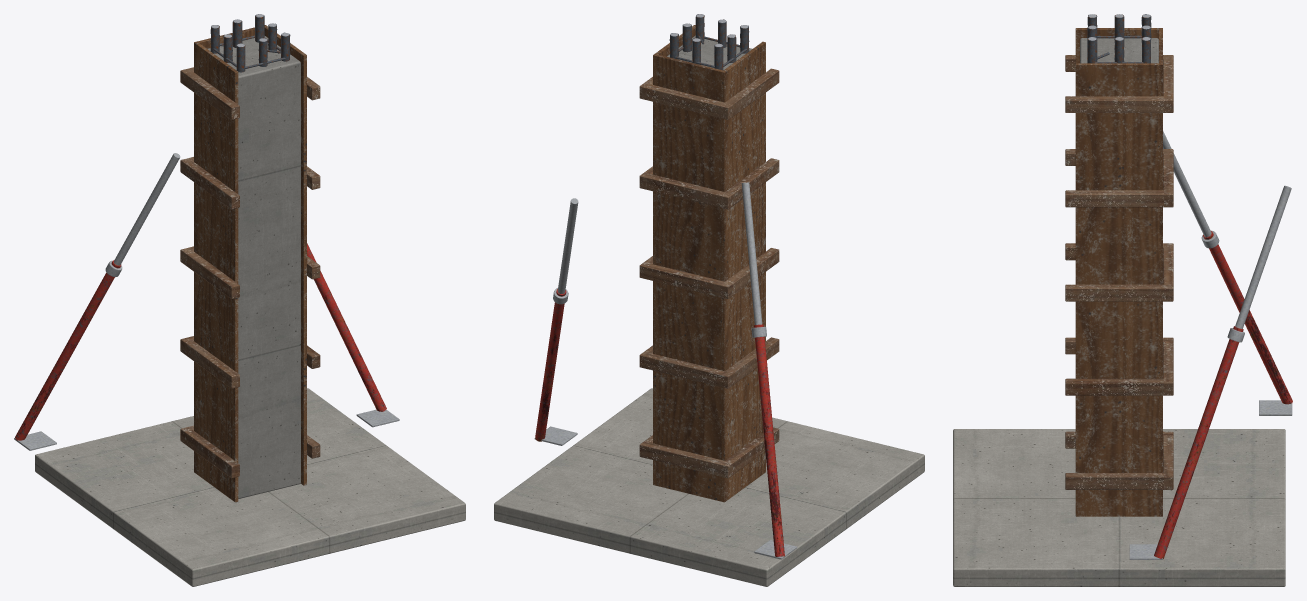
Rendered from chi-tiet-cot.glb.
The picture shows the model from 3 angles, left to right: view 1: azimuth 30°, elevation 25°; view 2: azimuth 150°, elevation 25°; view 3: azimuth 270°, elevation 25°; orthographic projection. The views are drawn at different scales.
Visible parts, largest first — view 1: Base, step4_42, step3_38, step3_39, step3_40, step3_41, step3_37; view 2: Base, step3_37, step3_38, step3_40, step3_41, step3_39, step4_42; view 3: Base, step3_39, step3_37, step3_41, step3_40, step3_38, step4_42.
Part boxes in pixels (bbox=[...]): Base: bbox=[35, 388, 465, 586]; step4_42: bbox=[207, 36, 300, 498]; step3_38: bbox=[180, 42, 239, 502]; step3_39: bbox=[264, 25, 320, 485]; step3_40: bbox=[14, 153, 180, 450]; step3_41: bbox=[307, 243, 399, 427]; step3_37: bbox=[180, 25, 266, 472]; Base: bbox=[494, 388, 924, 586]; step3_37: bbox=[639, 54, 732, 502]; step3_38: bbox=[720, 41, 779, 501]; step3_40: bbox=[741, 182, 797, 559]; step3_41: bbox=[534, 198, 578, 445]; step3_39: bbox=[640, 25, 695, 485]; step4_42: bbox=[667, 35, 752, 69]; Base: bbox=[953, 429, 1285, 586]; step3_39: bbox=[1065, 63, 1173, 516]; step3_37: bbox=[1159, 28, 1173, 516]; step3_41: bbox=[1129, 185, 1291, 559]; step3_40: bbox=[1163, 131, 1292, 415]; step3_38: bbox=[1065, 28, 1173, 448]; step4_42: bbox=[1080, 38, 1158, 63].
Size of the model in its own units: 1.81 by 2.6 by 1.63.
Materials: 11 (11 with a texture image).
